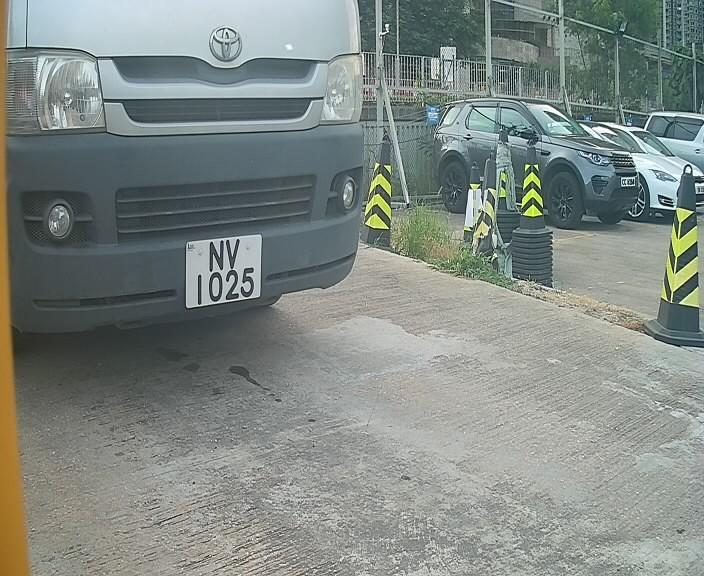privatecar: (2, 1, 394, 345)
